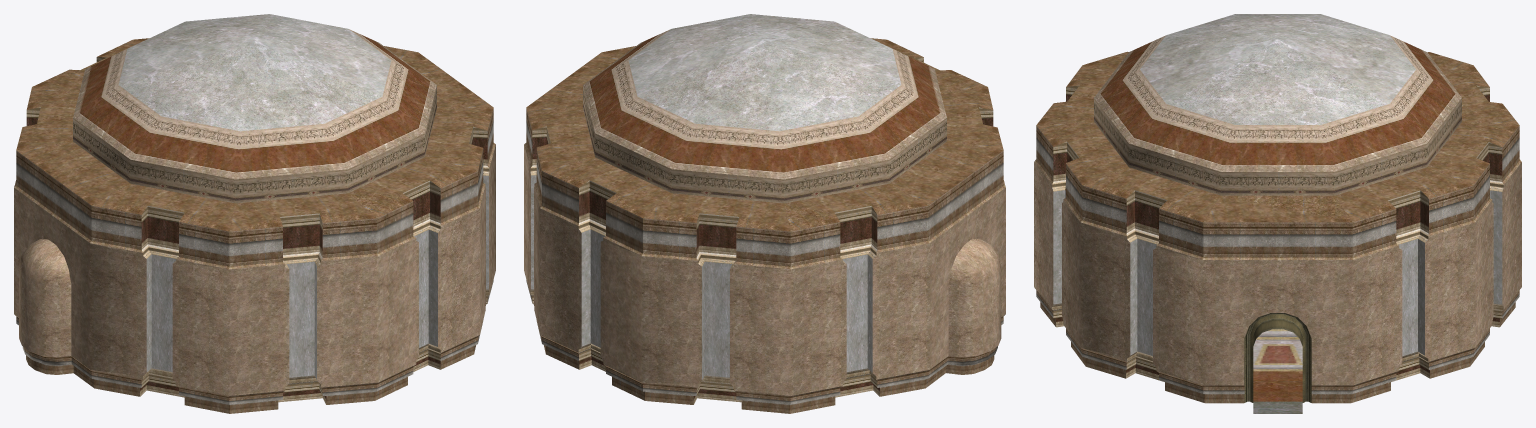
The model's file is thm_nboo_thed_theed_palace_r24_mesh_r24.fbx.
The picture shows the model from 3 angles, left to right: view 1: azimuth 30°, elevation 25°; view 2: azimuth 150°, elevation 25°; view 3: azimuth 270°, elevation 25°; orthographic projection.
Parts seen in each view (by area): view 1: mesh_node; view 2: mesh_node; view 3: mesh_node.
Part boxes in pixels (box(x1,y1,x2,y2)): mesh_node: box(14, 14, 495, 413); mesh_node: box(524, 14, 1005, 413); mesh_node: box(1034, 14, 1521, 413).
Bounding box in the file's own units: 25.53 × 14.71 × 24.23.
